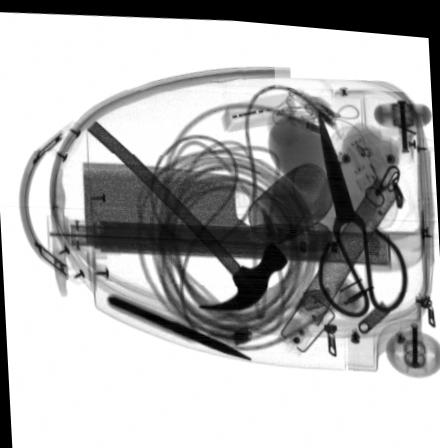Hammer: (85, 117, 287, 306)
Knife: (82, 160, 332, 247)
Pliers: (103, 292, 251, 354)
Scissors: (316, 103, 408, 310)
